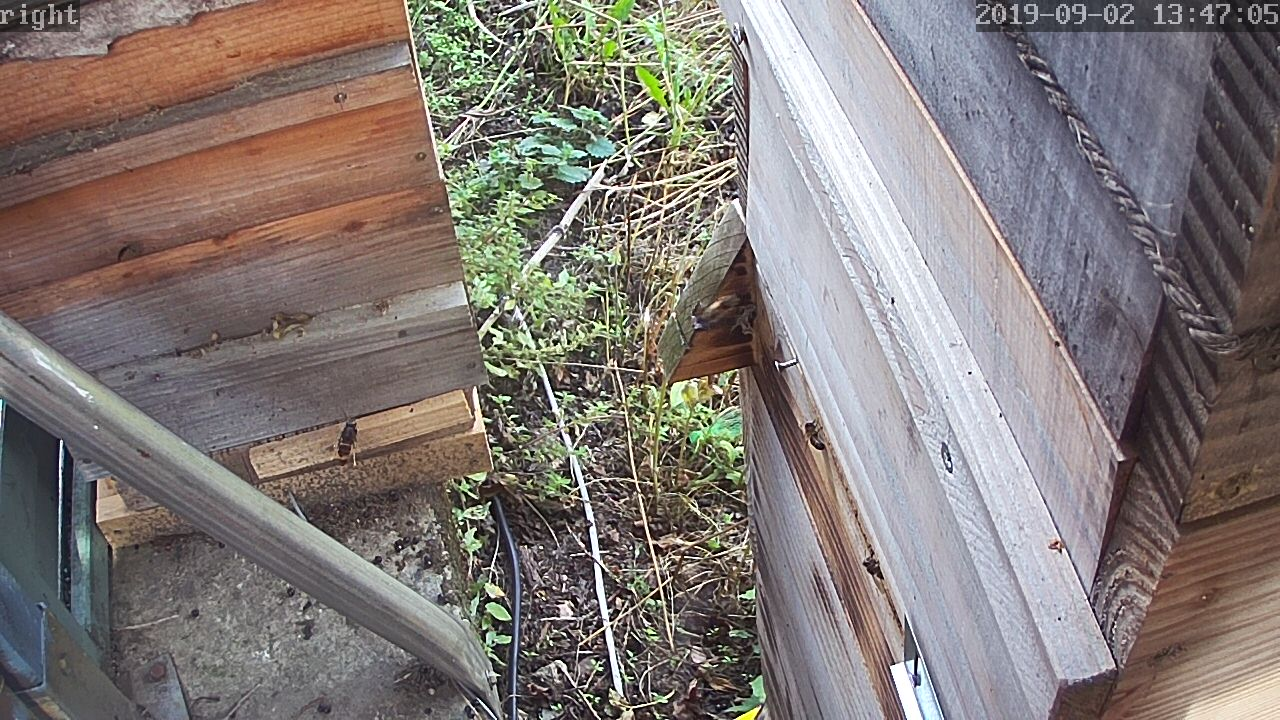bee: (860, 549, 894, 586), (798, 419, 834, 453)
hornet: (334, 419, 361, 466)
